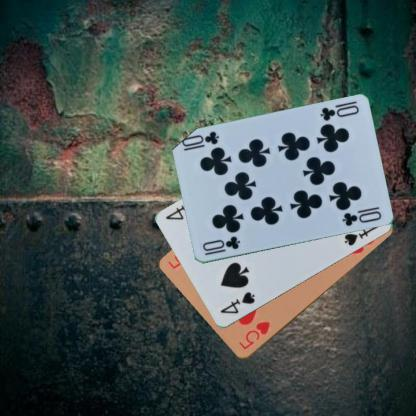10c: (200, 234, 241, 257), (317, 103, 360, 122)
4s: (217, 289, 257, 315)
5h: (236, 318, 274, 352)
